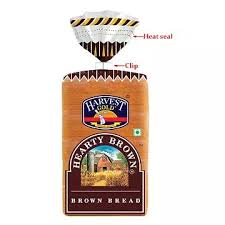bread: (57, 12, 155, 216)
